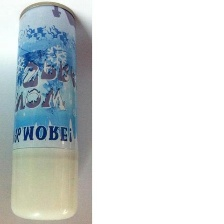aerosol_cans: (7, 0, 80, 223)
